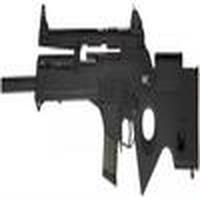gun: (3, 15, 200, 193)
